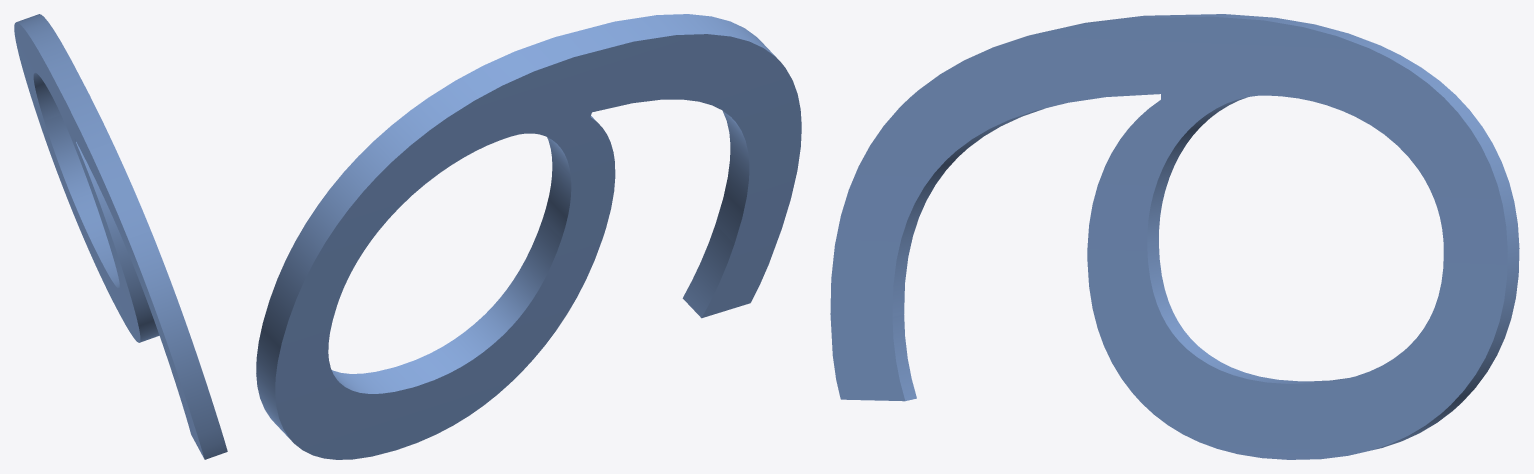
File: New_Number_9.gltf
3 renders of one model, left to right at view 1: azimuth 30°, elevation 25°; view 2: azimuth 150°, elevation 25°; view 3: azimuth 270°, elevation 25°, orthographic. The views are drawn at different scales.
Parts seen in each view (by area): view 1: Part 630; view 2: Part 630; view 3: Part 630.
Part boxes in pixels (x1,y1,x2,y2): Part 630: (14,14,227,459); Part 630: (256,14,801,459); Part 630: (830,14,1519,459).
Bounding box in the file's own units: 0.00207 × 0.00349 × 0.00556.
